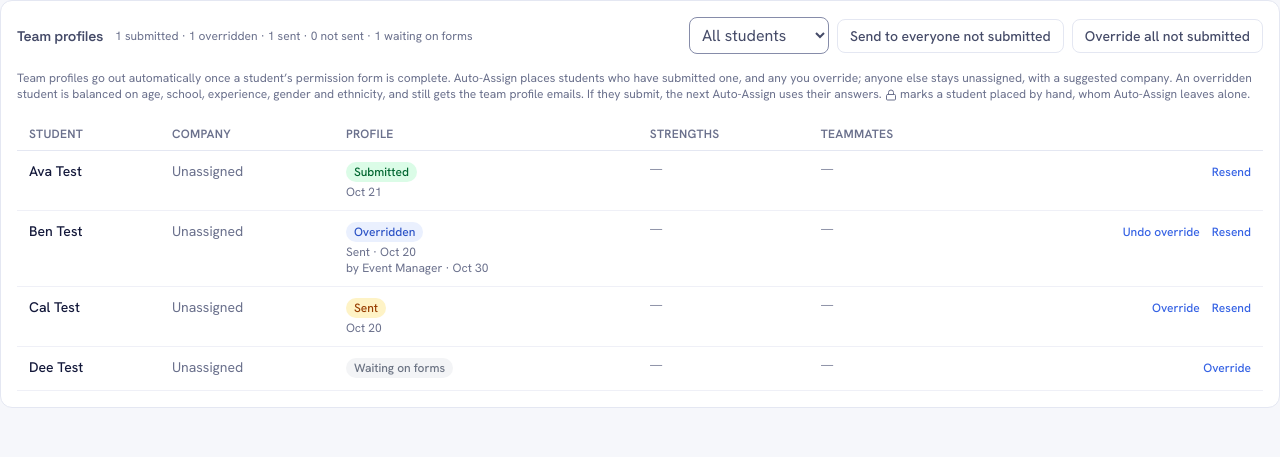
Test case: EventTeamProfiles — override › overrides everyone not submitted in one go
Click the button "Override all not submitted" at (1167, 36), box [1072,18,1263,52]
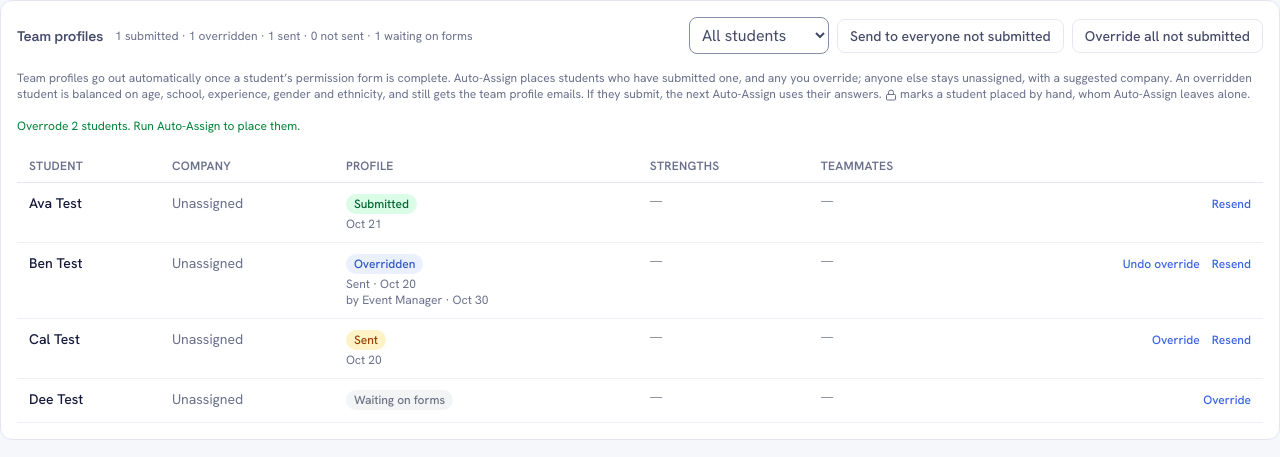
expect the text "Overrode 2 students. Run Auto-Assign to place them." is shown: met, box [17,118,300,134]
